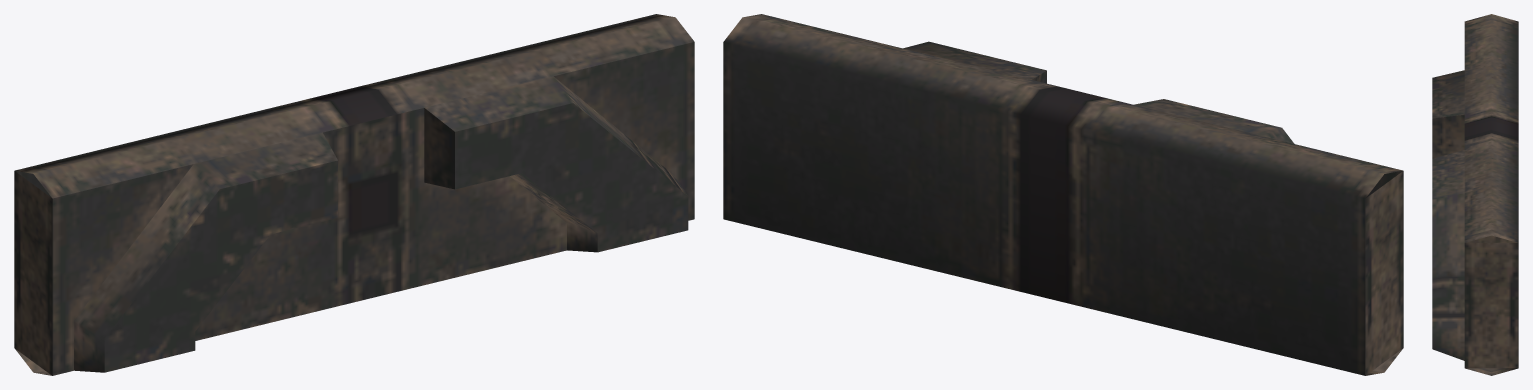
The picture shows the model from 3 angles, left to right: view 1: azimuth 30°, elevation 25°; view 2: azimuth 150°, elevation 25°; view 3: azimuth 270°, elevation 25°; orthographic projection. The views are drawn at different scales.
Parts seen in each view (by area): view 1: set_0_group_0; view 2: set_0_group_0; view 3: set_0_group_0.
Part boxes in pixels (left/top/right/bottom): set_0_group_0: left=14, top=14, right=694, bottom=375; set_0_group_0: left=723, top=14, right=1403, bottom=375; set_0_group_0: left=1432, top=14, right=1518, bottom=375.
Bounding box in the file's own units: 0.485 × 0.1434 × 0.08.
Materials: 1 (1 with a texture image).
